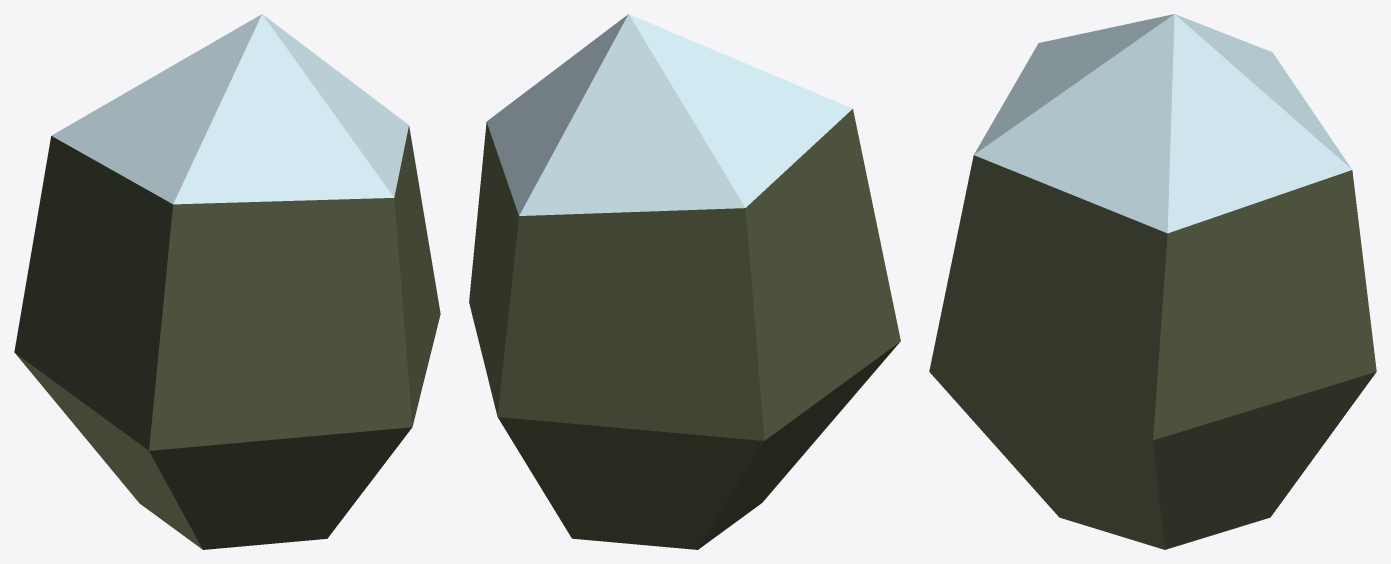
File: SM_Env_Western_Cactus_03_Snow.fbx
The picture shows the model from 3 angles, left to right: view 1: azimuth 30°, elevation 25°; view 2: azimuth 150°, elevation 25°; view 3: azimuth 270°, elevation 25°; orthographic projection. The views are drawn at different scales.
Visible parts, largest first — view 1: SM_Env_Western_Cactus_03_Snow; view 2: SM_Env_Western_Cactus_03_Snow; view 3: SM_Env_Western_Cactus_03_Snow.
Boxes of the visible parts, box(x1,y1,x2,y2) form: SM_Env_Western_Cactus_03_Snow: box(14, 14, 440, 549); SM_Env_Western_Cactus_03_Snow: box(469, 14, 900, 549); SM_Env_Western_Cactus_03_Snow: box(929, 14, 1376, 549).
Size of the model in its own units: 24.19 by 31.29 by 25.43.
Materials: 1 (1 with a texture image).
